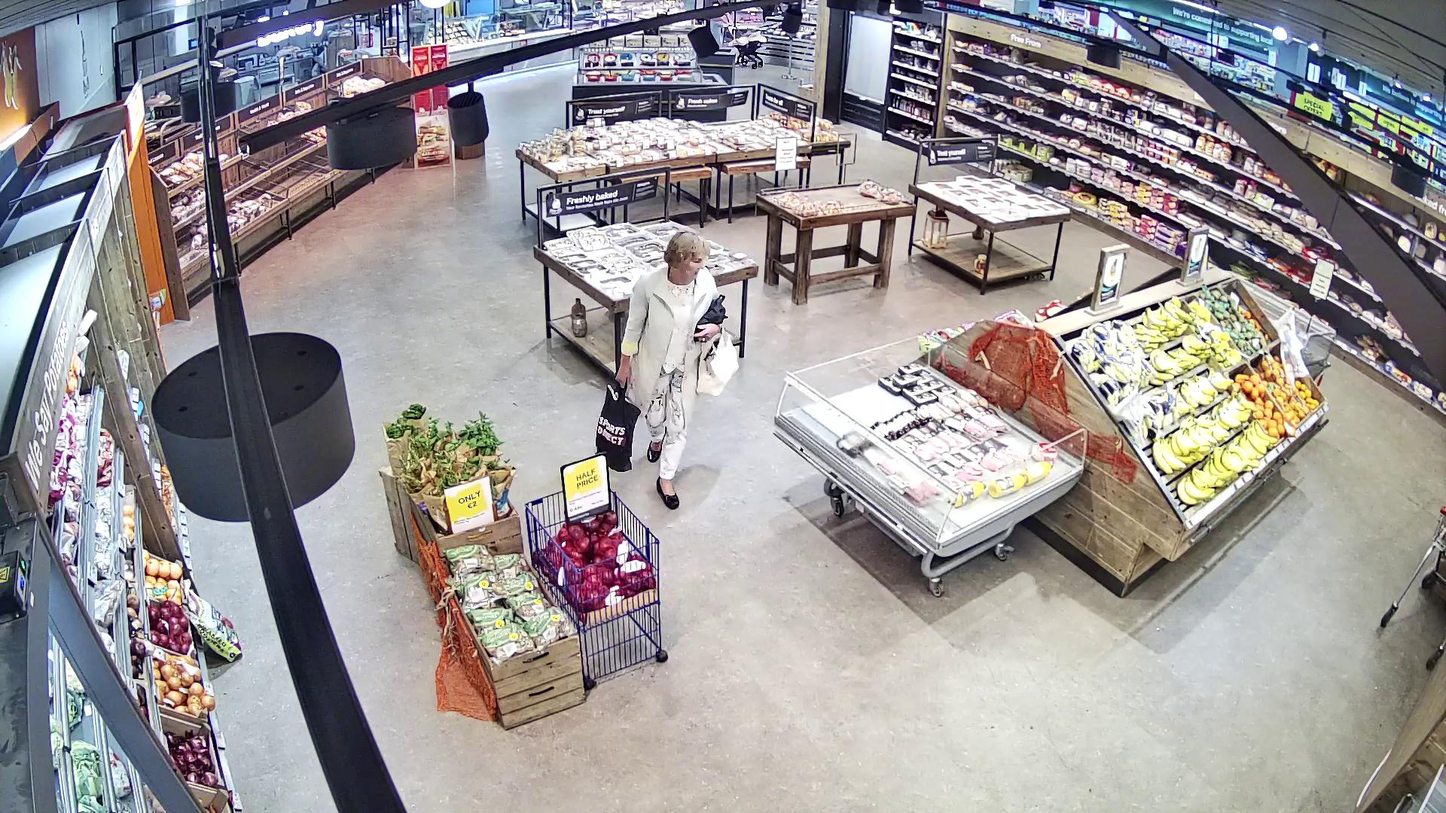backpack-or-handbag: (696, 336, 741, 397)
empty-shopping-bags: (694, 293, 728, 341)
filled-shopping-bags: (595, 378, 641, 473)
person: (617, 229, 719, 510)
person-with-backpack-handbag-and-shopping-bag-s-: (594, 228, 740, 510)
